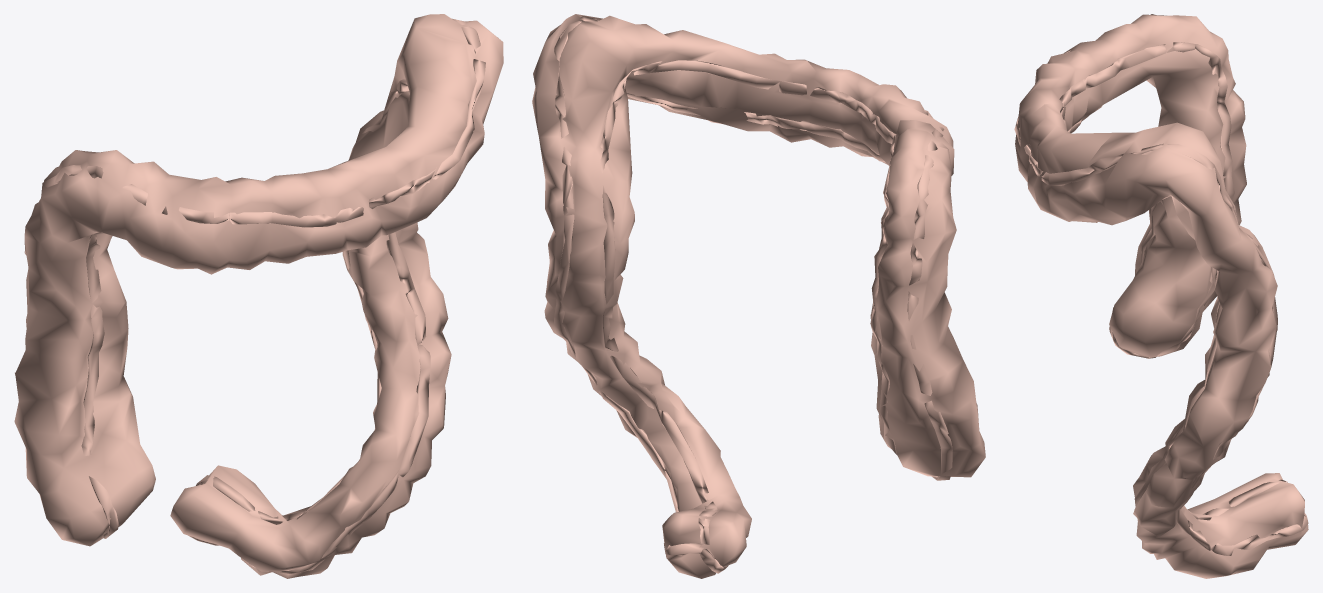
The model's file is large-intestine.glb.
3 renders of one model, left to right at view 1: azimuth 30°, elevation 25°; view 2: azimuth 150°, elevation 25°; view 3: azimuth 270°, elevation 25°, orthographic. The views are drawn at different scales.
Parts seen in each view (by area): view 1: large-intestine; view 2: large-intestine; view 3: large-intestine.
Boxes of the visible parts, x1,y1,x2,y2 form: large-intestine: (14, 14, 503, 578); large-intestine: (532, 14, 985, 578); large-intestine: (1014, 14, 1308, 578).
Size of the model in its own units: 0.2171 by 0.2401 by 0.1255.
